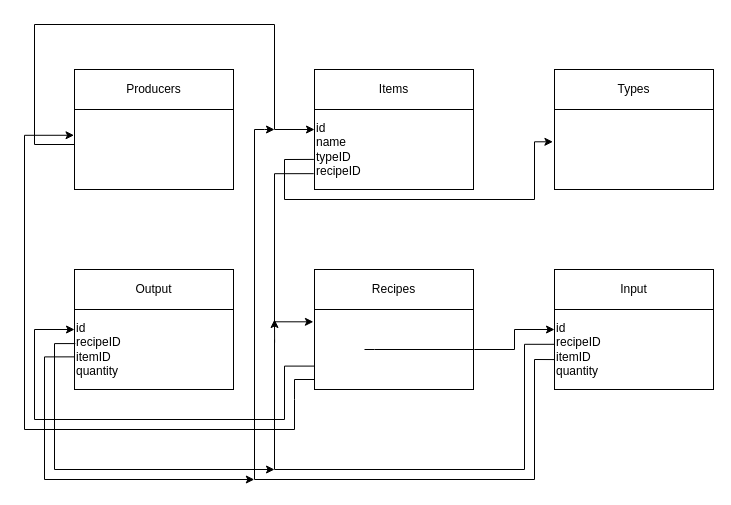
Image size: 731x505. Some labels were removed from this diagram. Each missing label, with the centre of its shape:
"id itemID producingSpeedMultiplier" belongs at pixel 154 149.
"id name" belongs at pixel 634 149.
"id name inputID outputID producerID" belongs at pixel 394 349.
